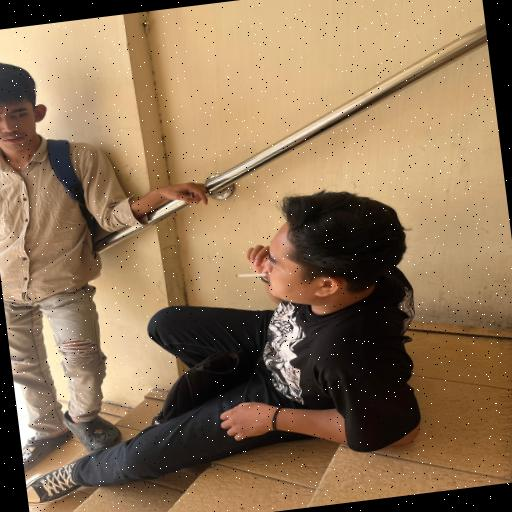terdeteksi merokok: (220, 219, 305, 312)
